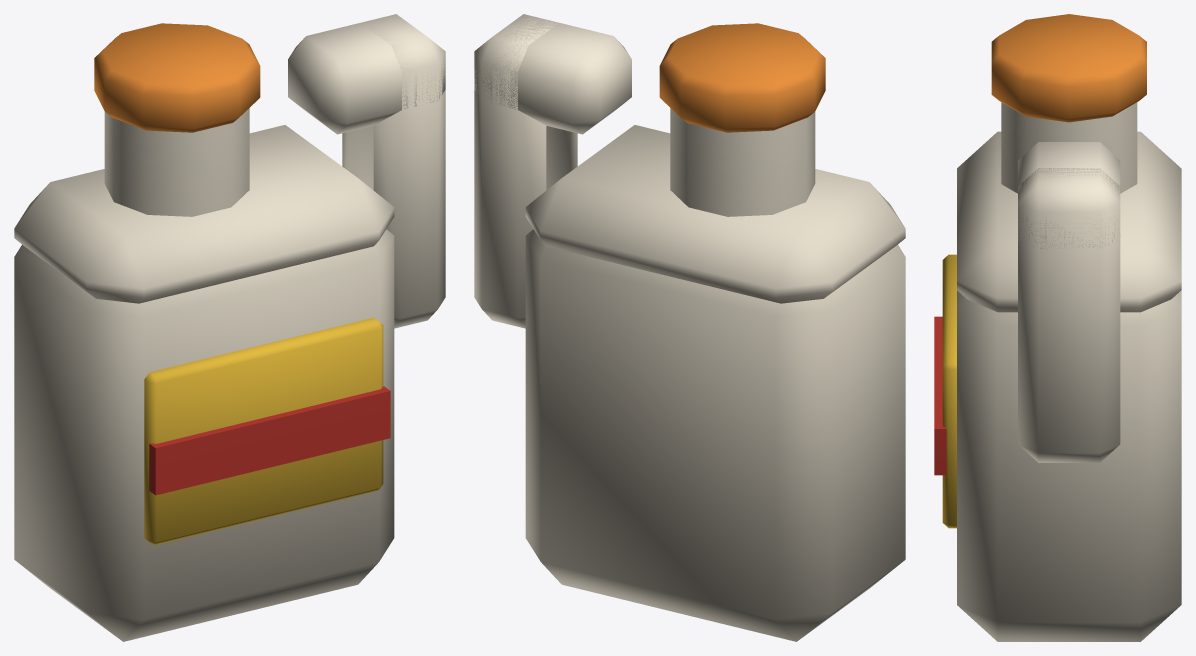
File: OilJug_01.glb
3 views of the same model, side by side, from view 1: azimuth 30°, elevation 25°; view 2: azimuth 150°, elevation 25°; view 3: azimuth 270°, elevation 25° (orthographic). The views are drawn at different scales.
Visible parts, largest first — view 1: SM_OilJug_01; view 2: SM_OilJug_01; view 3: SM_OilJug_01.
Part boxes in pixels (box(x1,y1,x2,y2)): SM_OilJug_01: box(14, 14, 445, 641); SM_OilJug_01: box(474, 14, 905, 641); SM_OilJug_01: box(934, 14, 1181, 641).
Bounding box in the file's own units: 0.21 × 0.285 × 0.121.
1 material, 1 textured.
